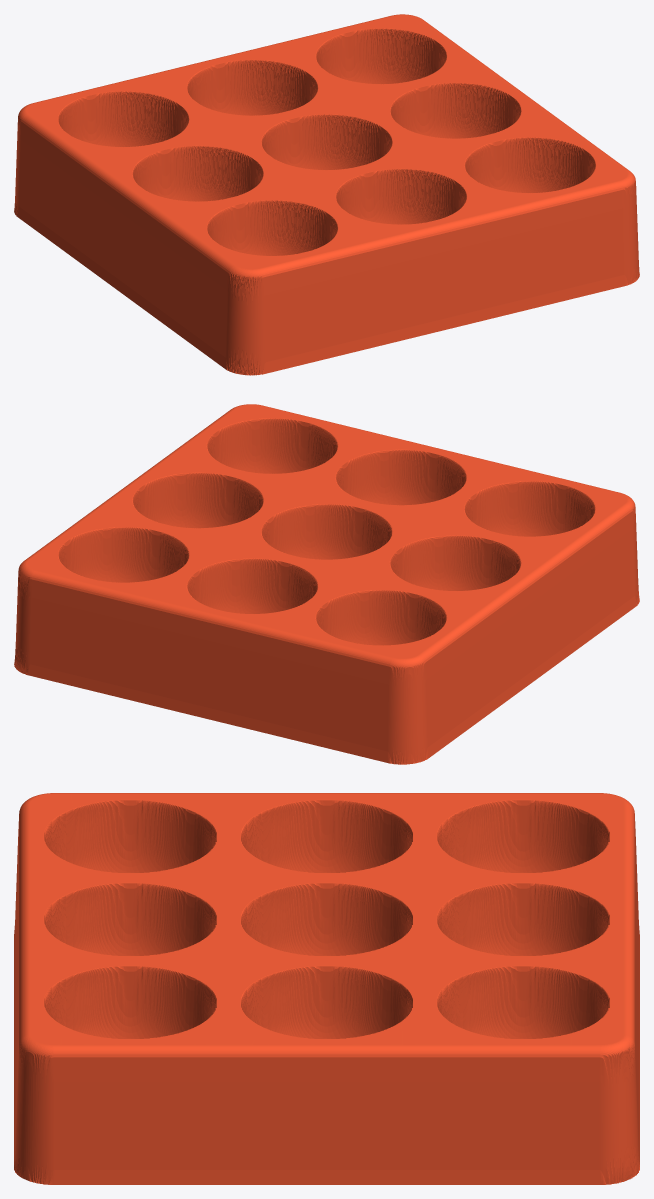
File: mold.glb
The picture shows the model from 3 angles, top to bottom: view 1: azimuth 30°, elevation 25°; view 2: azimuth 150°, elevation 25°; view 3: azimuth 270°, elevation 25°; orthographic projection. The views are drawn at different scales.
Parts seen in each view (by area): view 1: geometry_0; view 2: geometry_0; view 3: geometry_0.
Boxes of the visible parts, <box> form: geometry_0: <box>14,14,639,375</box>; geometry_0: <box>14,404,639,764</box>; geometry_0: <box>14,793,639,1184</box>.
Size of the model in its own units: 0.1409 by 0.0331 by 0.1409.
